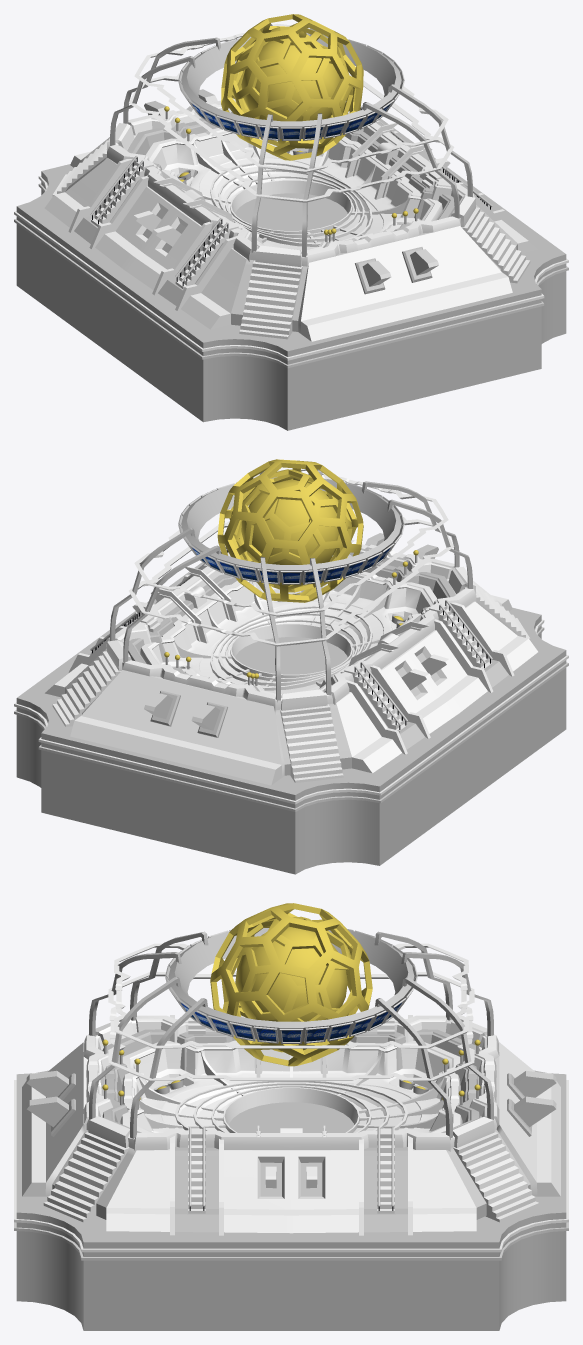
Rendered from arenacolossus.fbx.
The picture shows the model from 3 angles, top to bottom: view 1: azimuth 30°, elevation 25°; view 2: azimuth 150°, elevation 25°; view 3: azimuth 270°, elevation 25°; orthographic projection. The views are drawn at different scales.
Parts seen in each view (by area): view 1: LargeBase, Base, InnerBase, Stairs, BaseFrame, OuterHexBal, Rafters, InnerWalls, RafterBeams, ScreenMount, InnerHexBall, LargeCenterBulb (+8 smaller); view 2: LargeBase, Base, InnerBase, Stairs, BaseFrame, OuterHexBal, Rafters, InnerWalls, RafterBeams, ScreenMount, InnerHexBall, LargeCenterBulb (+8 smaller); view 3: LargeBase, Base, InnerBase, BaseFrame, Stairs, OuterHexBal, Rafters, InnerWalls, RafterBeams, ScreenMount, InnerBaseFrame, BaseSwitches (+8 smaller).
Boxes of the visible parts, x1,y1,x2,y2 form: LargeBase: [16, 118, 566, 430]; Base: [44, 109, 537, 341]; InnerBase: [145, 128, 442, 251]; Stairs: [52, 111, 530, 339]; BaseFrame: [106, 98, 475, 267]; OuterHexBal: [221, 14, 363, 160]; Rafters: [110, 24, 472, 257]; InnerWalls: [173, 135, 408, 246]; RafterBeams: [129, 23, 454, 202]; ScreenMount: [181, 33, 401, 138]; InnerHexBall: [232, 26, 353, 146]; LargeCenterBulb: [241, 40, 340, 121]; LargeBase: [16, 562, 566, 874]; Base: [45, 549, 537, 785]; InnerBase: [140, 571, 436, 695]; Stairs: [52, 552, 530, 782]; BaseFrame: [106, 540, 476, 711]; OuterHexBal: [217, 459, 363, 602]; Rafters: [110, 469, 472, 702]; InnerWalls: [174, 579, 409, 690]; RafterBeams: [129, 468, 454, 646]; ScreenMount: [181, 477, 401, 582]; InnerHexBall: [231, 469, 352, 592]; LargeCenterBulb: [241, 479, 338, 564]; LargeBase: [16, 1070, 566, 1330]; Base: [22, 1015, 560, 1235]; InnerBase: [120, 1040, 462, 1132]; BaseFrame: [83, 1015, 499, 1151]; Stairs: [43, 1017, 539, 1222]; OuterHexBal: [210, 903, 372, 1066]; Rafters: [89, 931, 493, 1139]; InnerWalls: [138, 1050, 444, 1132]; RafterBeams: [108, 943, 474, 1080]; ScreenMount: [168, 928, 414, 1041]; InnerBaseFrame: [102, 1029, 480, 1132]; BaseSwitches: [26, 1070, 556, 1136].
Bounding box in the file's own units: 68.08 × 51.04 × 80.01.
